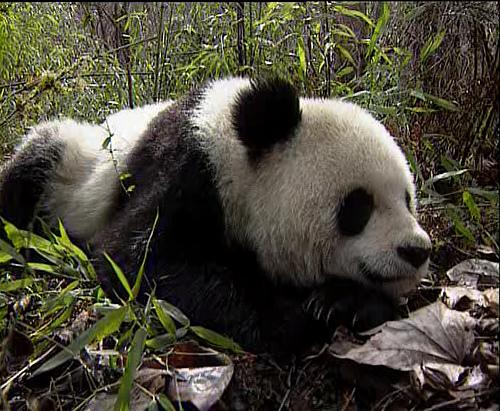panda: (0, 77, 431, 352)
